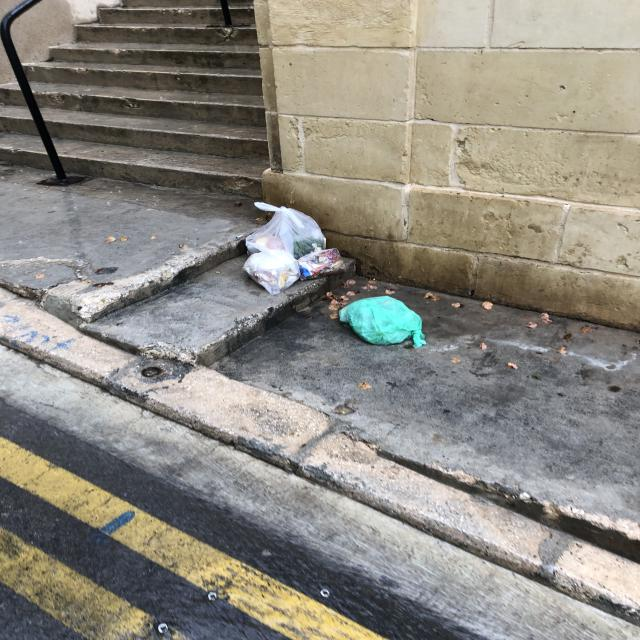Organic Waste -White Bag-: (248, 201, 332, 261), (242, 252, 302, 295), (288, 249, 349, 280)
Recycled Waste -Grey or Green Bag-: (341, 297, 429, 350)
